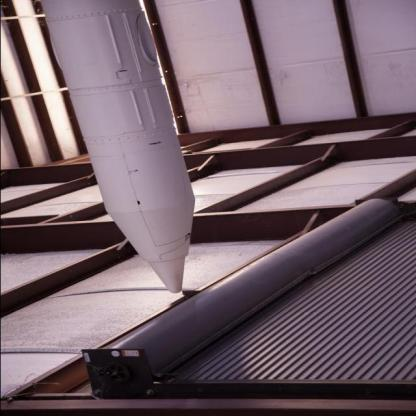MIL_TBM: (47, 0, 208, 301)
